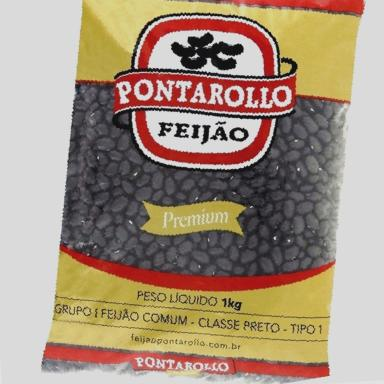beans package: (43, 0, 363, 382)
